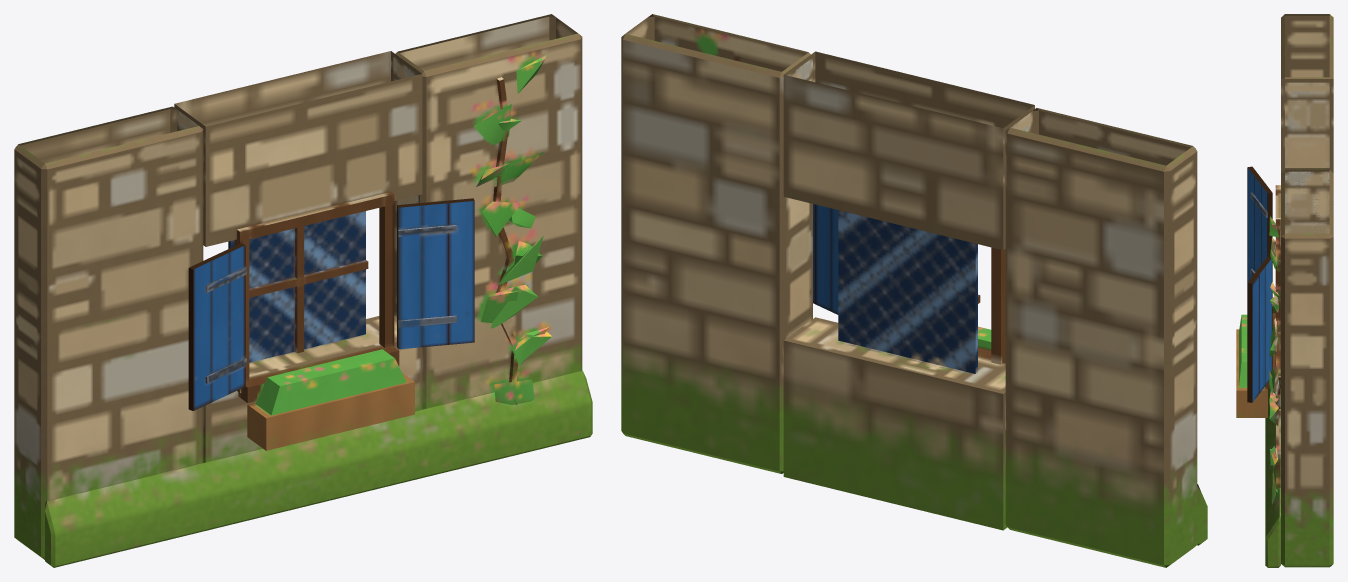
The model's file is Kit_House_GroundWin.fbx.
The picture shows the model from 3 angles, left to right: view 1: azimuth 30°, elevation 25°; view 2: azimuth 150°, elevation 25°; view 3: azimuth 270°, elevation 25°; orthographic projection. The views are drawn at different scales.
Visible parts, largest first — view 1: Kit_House_GroundWin_LOD0; view 2: Kit_House_GroundWin_LOD0; view 3: Kit_House_GroundWin_LOD0.
Boxes of the visible parts, x1=… form: Kit_House_GroundWin_LOD0: x1=14, y1=14, x2=592, y2=567; Kit_House_GroundWin_LOD0: x1=621, y1=14, x2=1207, y2=567; Kit_House_GroundWin_LOD0: x1=1236, y1=14, x2=1333, y2=567.
Size of what is drawn, in the model's own units: 4 by 2.8 by 0.74.
Materials: 1 (1 with a texture image).
